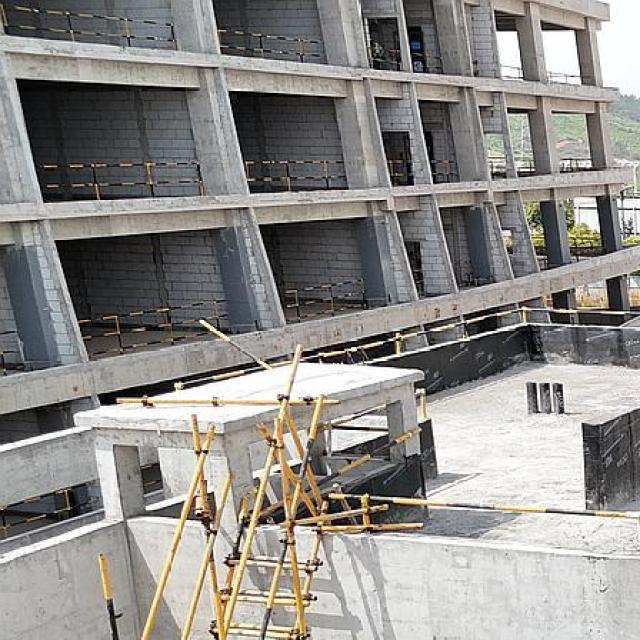edge_guardrail: (173, 304, 640, 391), (258, 426, 423, 520), (327, 492, 640, 532), (76, 298, 230, 358), (35, 160, 206, 200), (0, 479, 101, 539), (330, 387, 429, 433), (279, 277, 368, 323), (218, 29, 328, 64), (245, 160, 346, 194), (0, 327, 24, 376), (366, 46, 401, 71), (428, 159, 458, 182), (388, 160, 412, 187), (140, 462, 163, 488), (411, 54, 443, 69), (499, 64, 524, 80), (547, 72, 580, 84), (559, 157, 592, 169), (566, 236, 601, 245), (516, 159, 536, 171), (488, 162, 506, 174)
